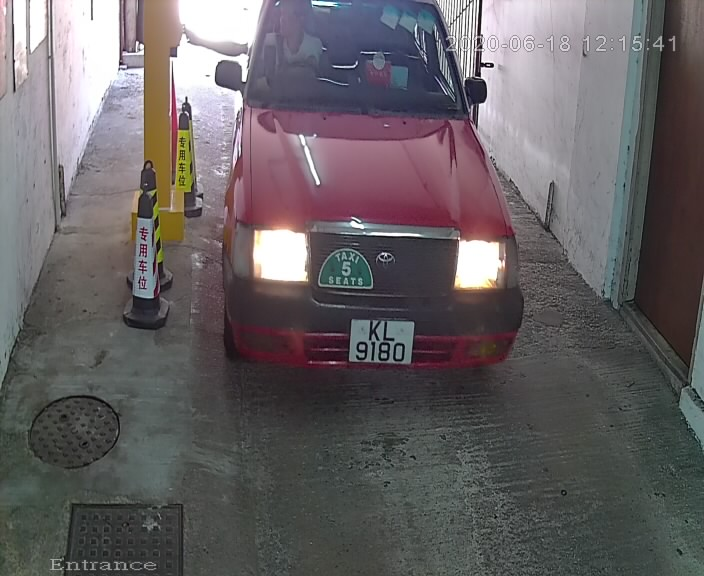taxi: (202, 2, 528, 398)
taxi_mark: (317, 244, 376, 301)
